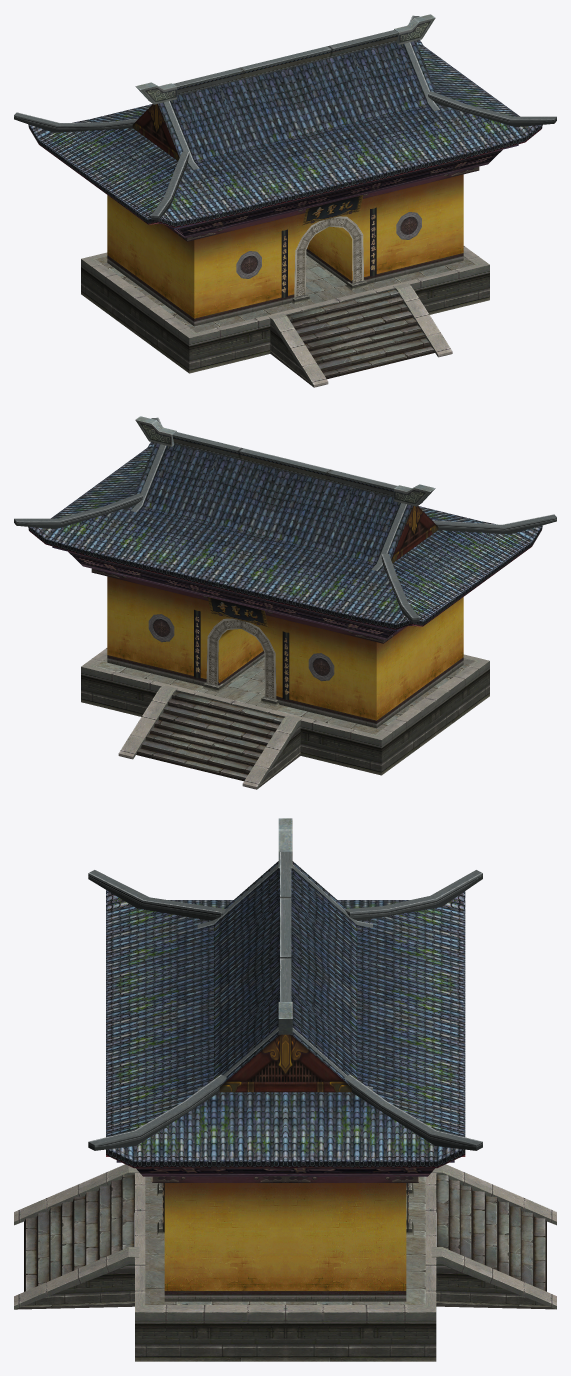
Rendered from Maincity06_Building_sm01_LOD1.FBX.
3 views of the same model, one above another, from view 1: azimuth 30°, elevation 25°; view 2: azimuth 150°, elevation 25°; view 3: azimuth 270°, elevation 25° (orthographic). The views are drawn at different scales.
Visible parts, largest first — view 1: Maincity06_Building_sm01_LOD1; view 2: Maincity06_Building_sm01_LOD1; view 3: Maincity06_Building_sm01_LOD1.
Part boxes in pixels (x1,y1,x2,y2): Maincity06_Building_sm01_LOD1: [14, 14, 556, 387]; Maincity06_Building_sm01_LOD1: [14, 416, 556, 789]; Maincity06_Building_sm01_LOD1: [14, 818, 556, 1361].
Size of the model in its own units: 3211 by 1871 by 2677.
